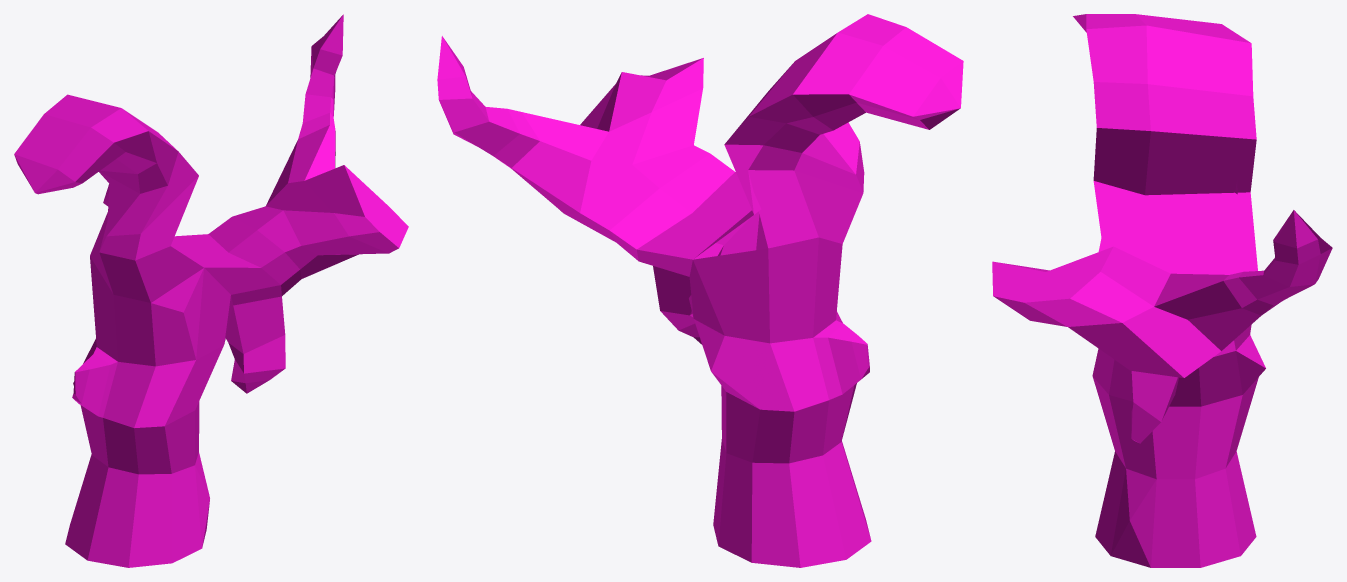
File: coral2.obj
3 views of the same model, side by side, from view 1: azimuth 30°, elevation 25°; view 2: azimuth 150°, elevation 25°; view 3: azimuth 270°, elevation 25° (orthographic). The views are drawn at different scales.
Parts seen in each view (by area): view 1: Cylinder_Cylinder.001; view 2: Cylinder_Cylinder.001; view 3: Cylinder_Cylinder.001.
Part boxes in pixels (bbox=[...]): Cylinder_Cylinder.001: bbox=[14, 14, 408, 567]; Cylinder_Cylinder.001: bbox=[437, 14, 963, 567]; Cylinder_Cylinder.001: bbox=[992, 14, 1332, 567].
Size of the model in its own units: 4.93 by 5.44 by 3.38.
